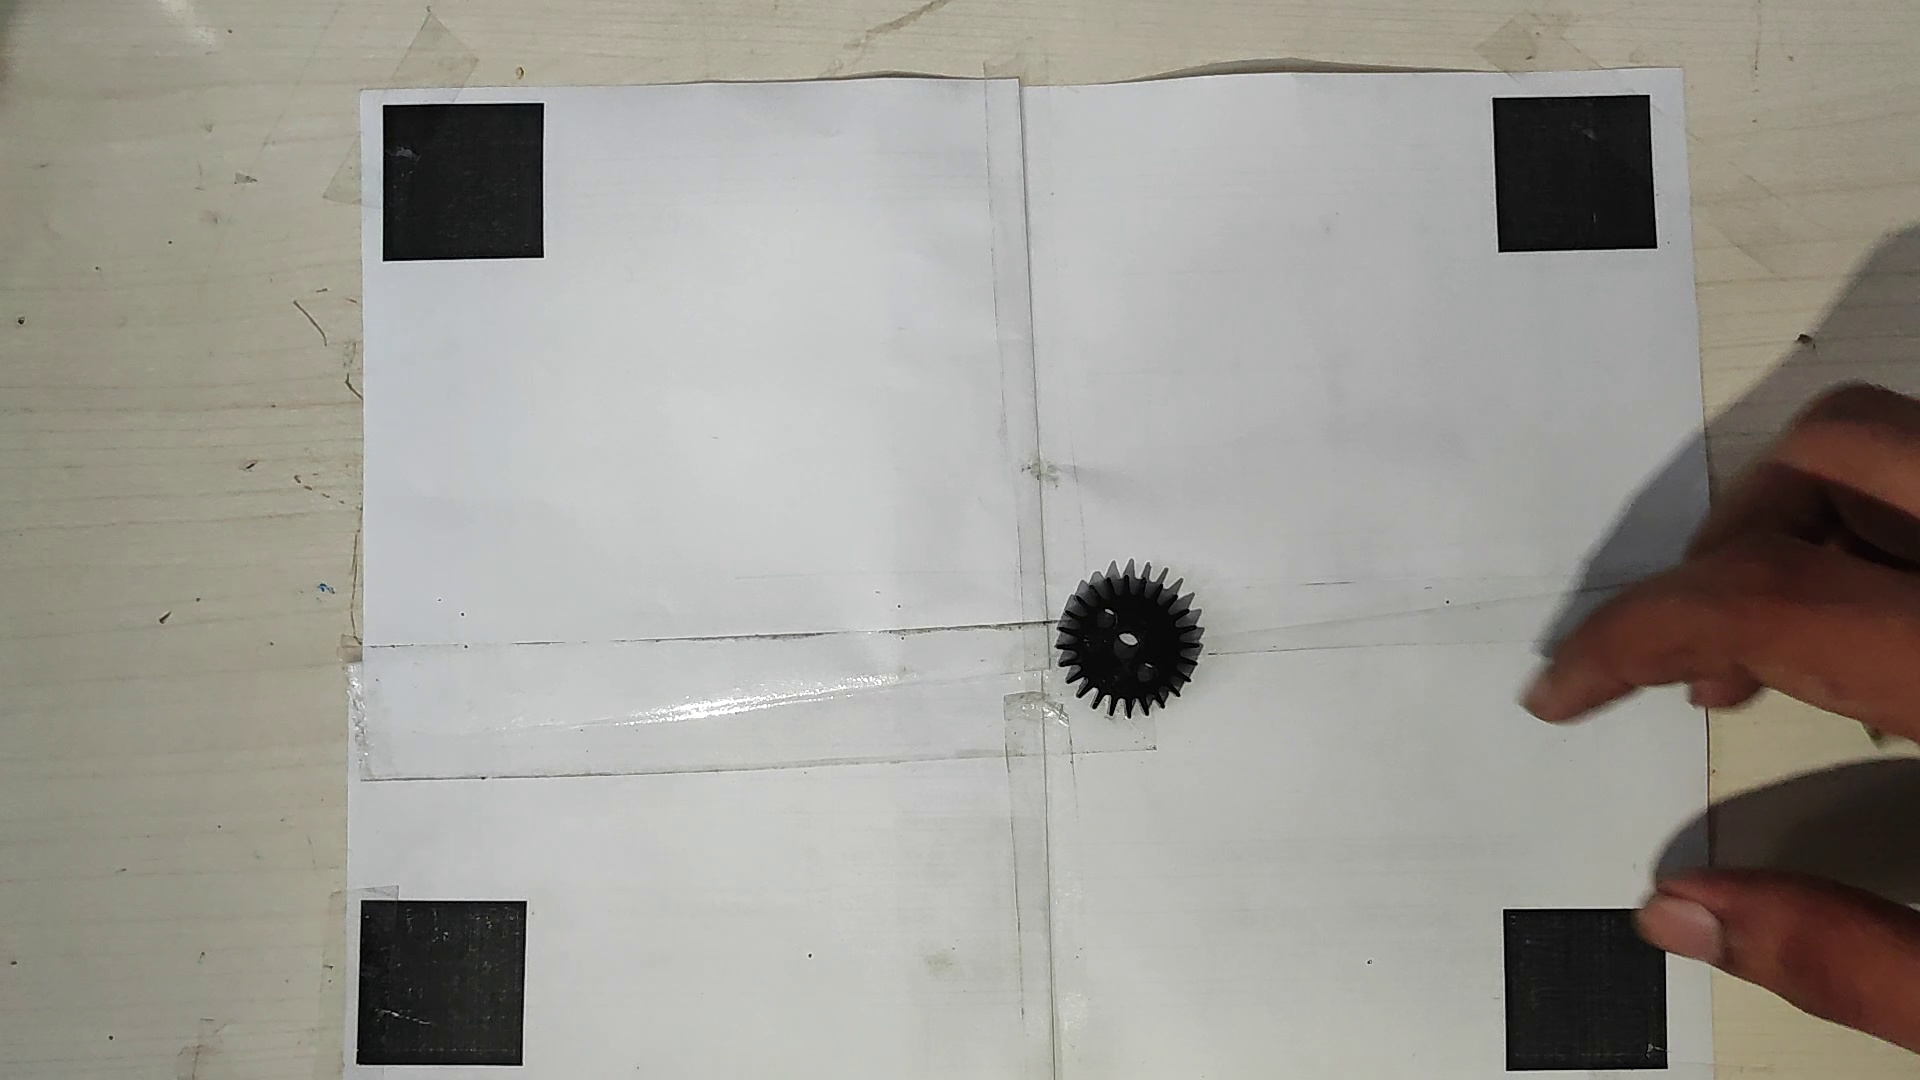Gear: (1051, 563, 1209, 721)
